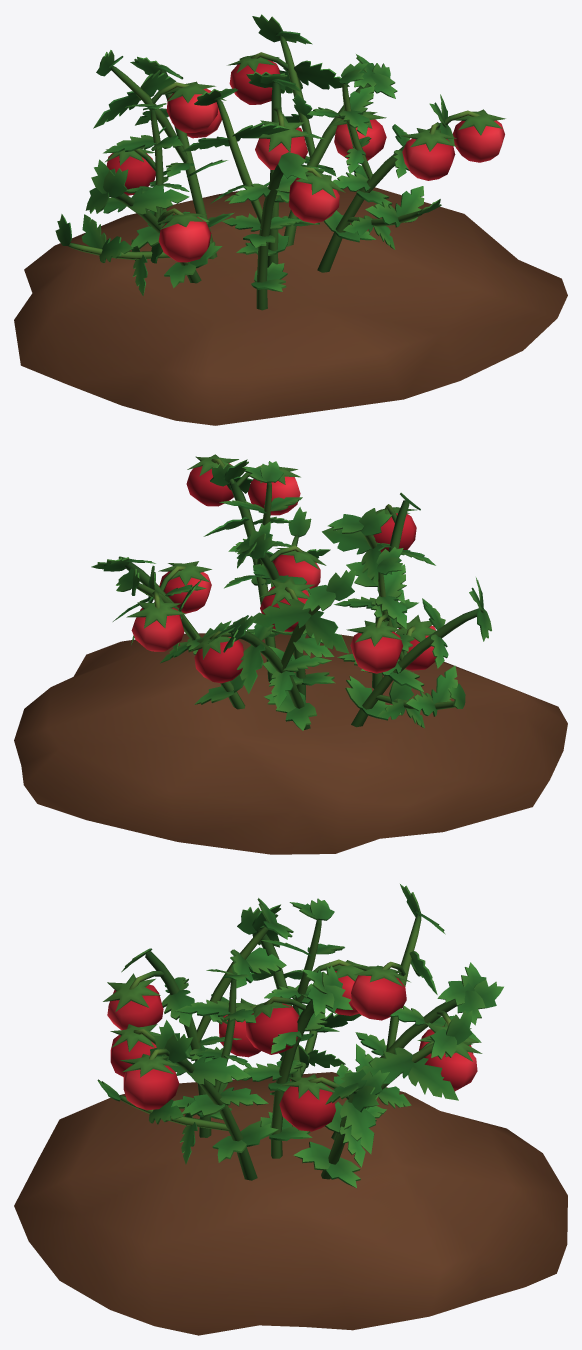
Rendered from SM_PlantSoil_Tomato_Lv3.fbx.
3 views of the same model, one above another, from view 1: azimuth 30°, elevation 25°; view 2: azimuth 150°, elevation 25°; view 3: azimuth 270°, elevation 25° (orthographic). The views are drawn at different scales.
Parts seen in each view (by area): view 1: SM_PlantSoil_Tomato_Lv3; view 2: SM_PlantSoil_Tomato_Lv3; view 3: SM_PlantSoil_Tomato_Lv3.
Part boxes in pixels (<box>): SM_PlantSoil_Tomato_Lv3: <box>14,14,567,425</box>; SM_PlantSoil_Tomato_Lv3: <box>14,454,567,854</box>; SM_PlantSoil_Tomato_Lv3: <box>14,884,567,1335</box>.
Size of the model in its own units: 118 by 56.25 by 106.
